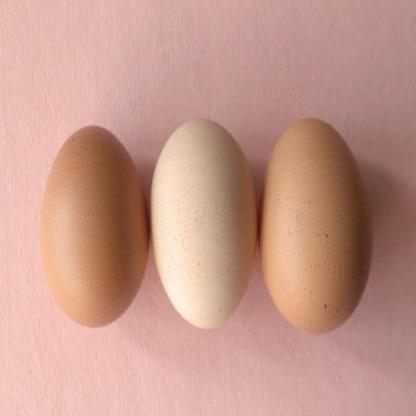egg: (145, 89, 266, 361), (258, 102, 376, 372), (36, 106, 154, 335)
